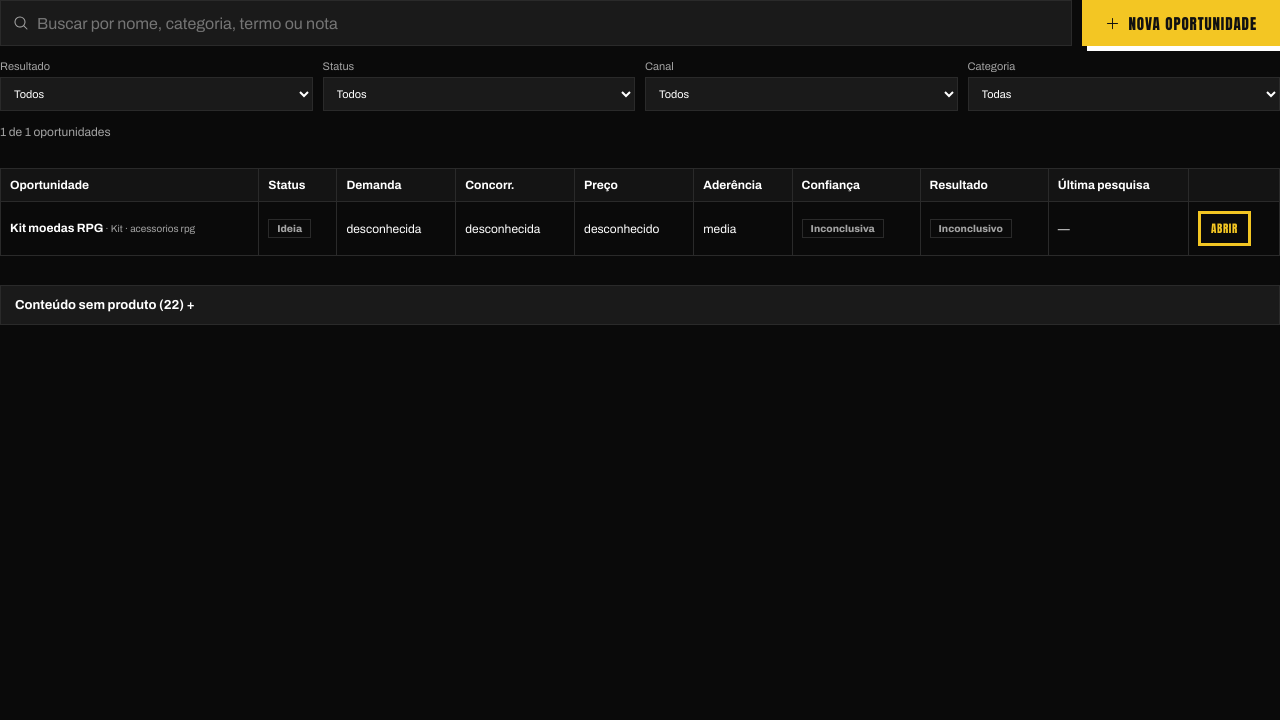
Test case: RadarManager — importação do Mercado Livre › feature flag: não configurado mostra aviso e Radar segue manual
Click the button "Abrir".
click(1224, 228)  # box [1198,211,1251,246]
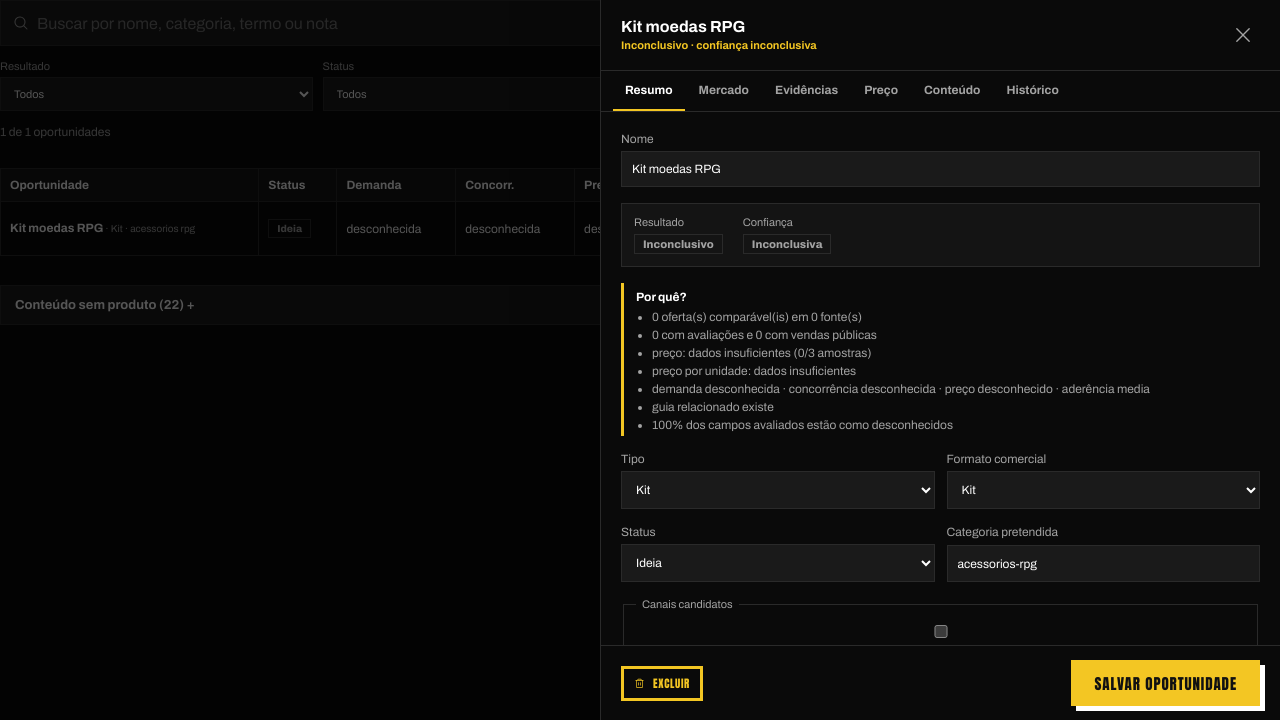
Click the button "Evidências".
click(807, 91)  # box [763,71,850,111]
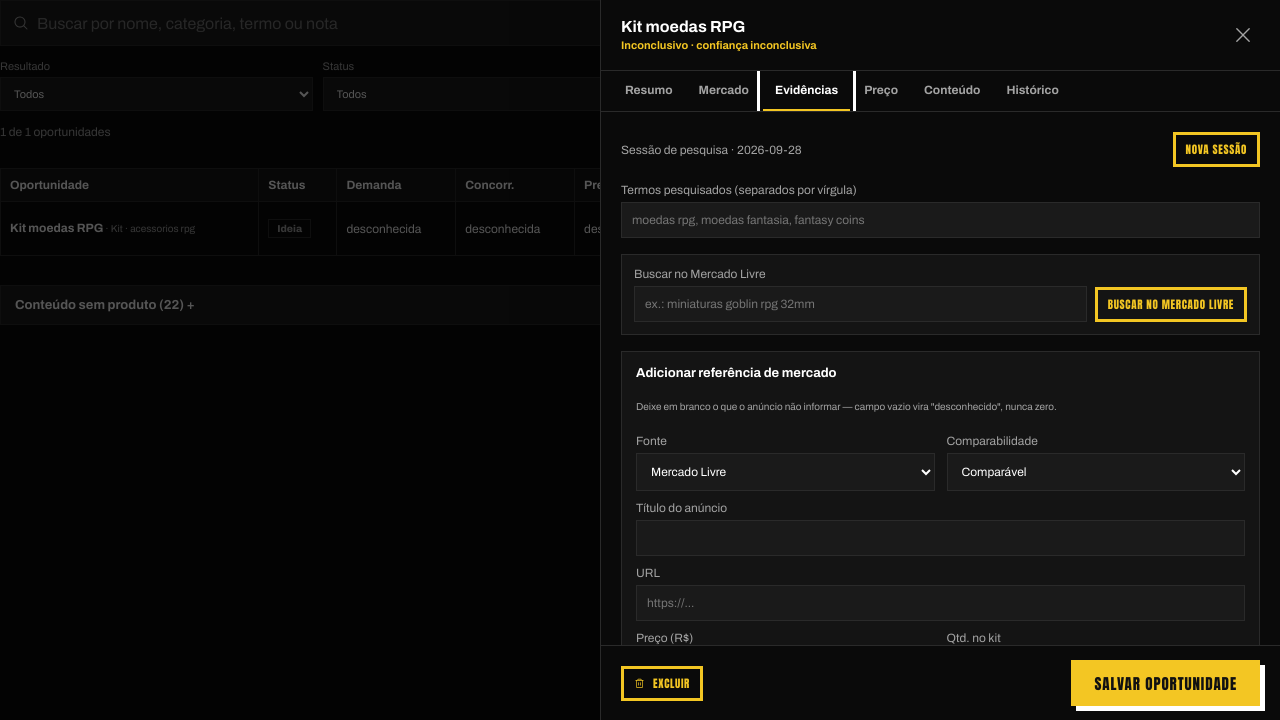
Type "goblin" into the field labelled "Buscar no Mercado Livre".
click(860, 304); type("goblin")  # box [634,286,1087,322]
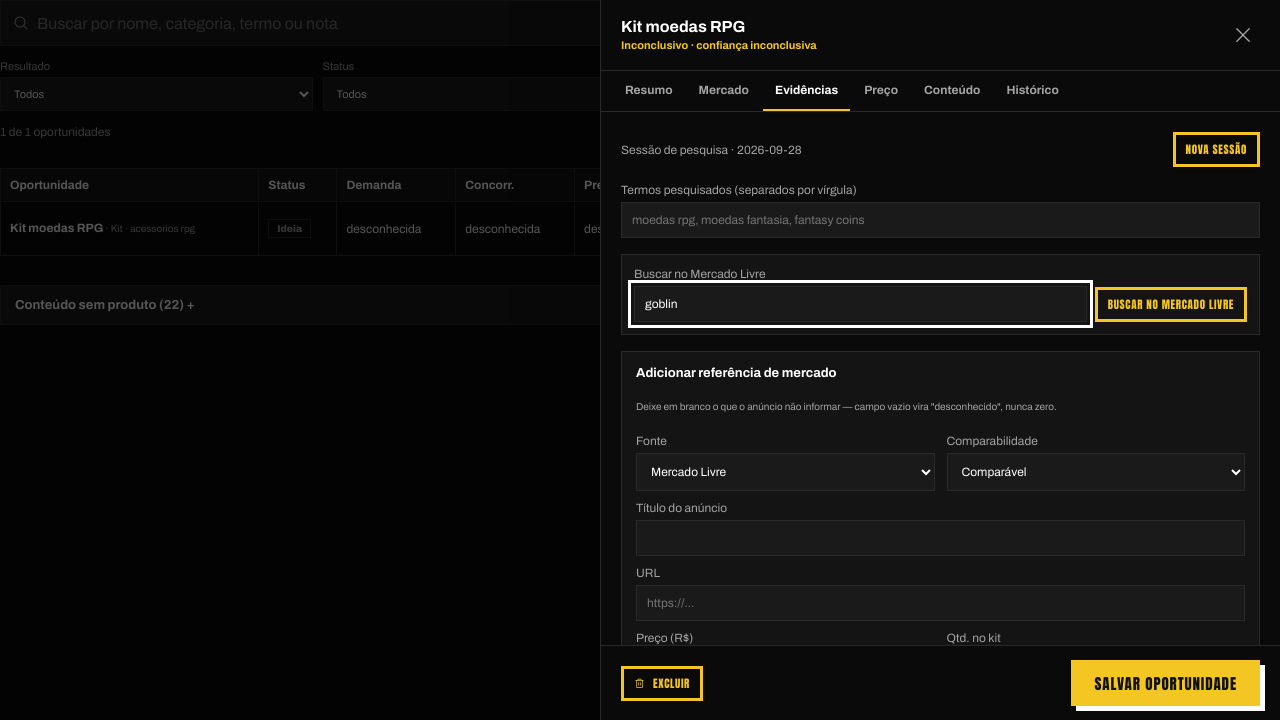
Click the button "Buscar no Mercado Livre".
click(1171, 304)  # box [1095,287,1247,322]
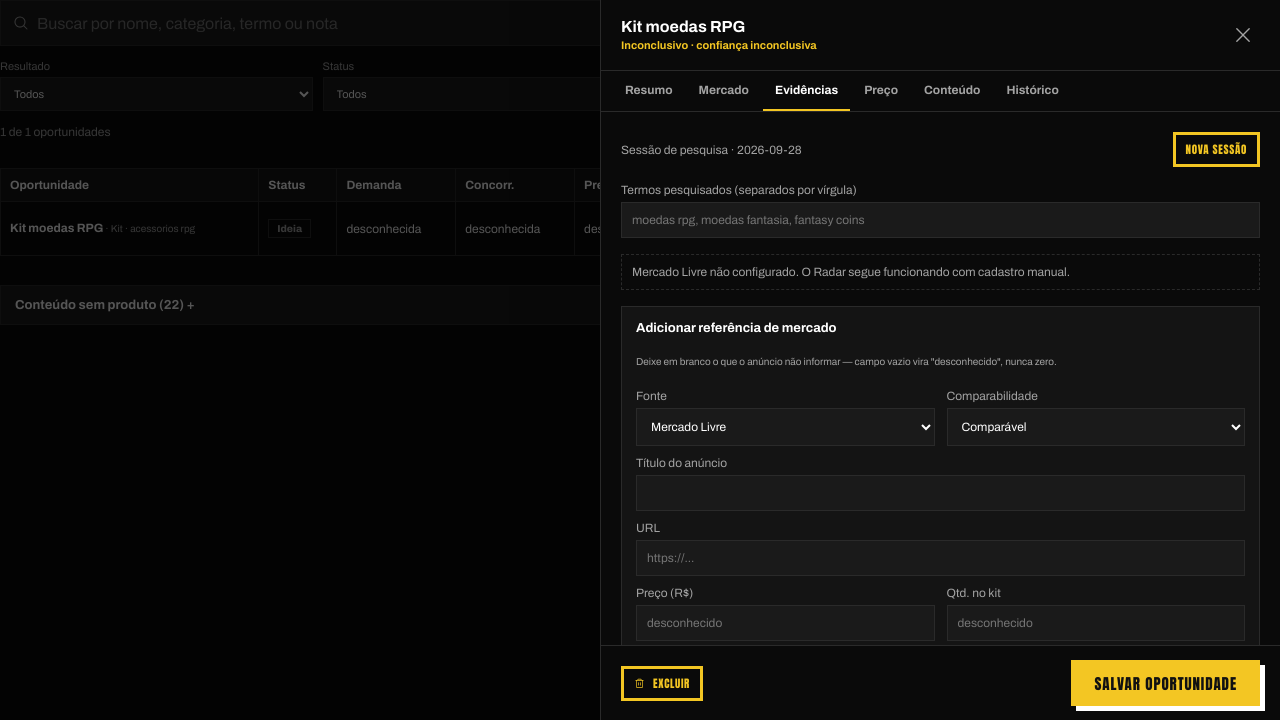
Now the text "Mercado Livre não configurado" is shown, box [632,265,1070,279]
